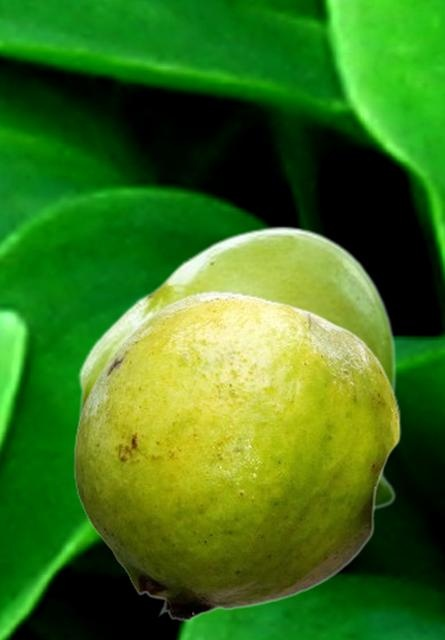guava: (73, 290, 400, 621), (74, 225, 396, 512)
